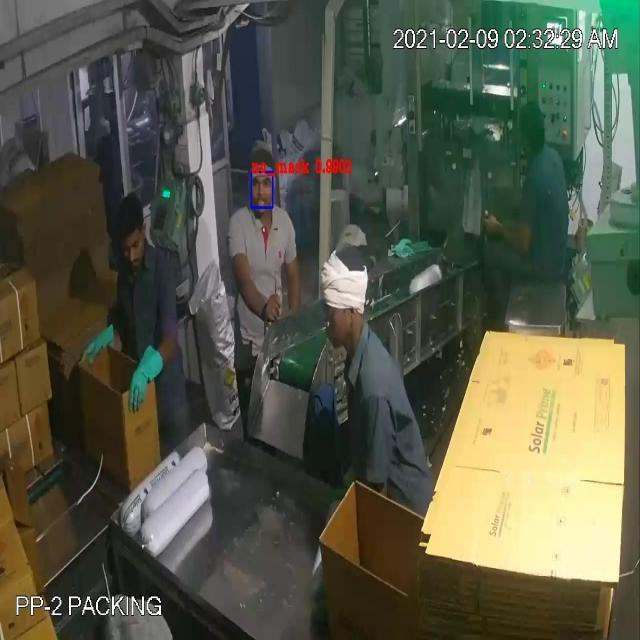Gloves: (22, 54, 506, 380)
